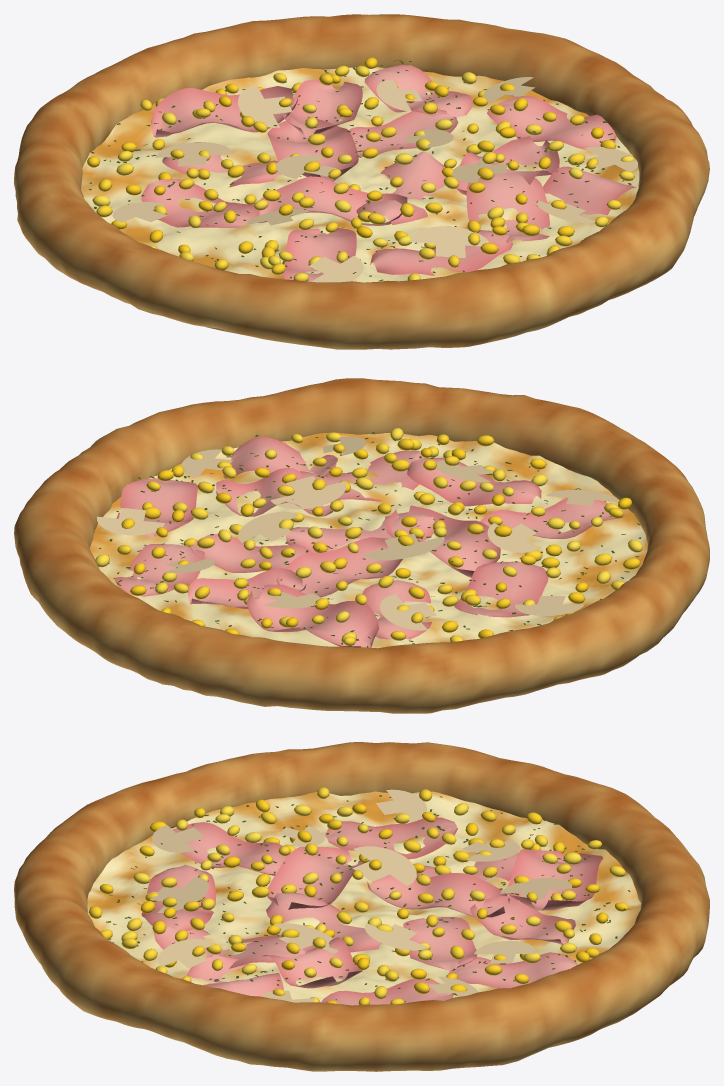
Rendered from pizza.glb.
3 views of the same model, one above another, from view 1: azimuth 30°, elevation 25°; view 2: azimuth 150°, elevation 25°; view 3: azimuth 270°, elevation 25° (orthographic).
Parts seen in each view (by area): view 1: Pizza_Borde, Pizza_Jamon, Pizza_Queso, Pizza_Choclo, Pizza_Champi, Pizza_Oregano; view 2: Pizza_Borde, Pizza_Jamon, Pizza_Queso, Pizza_Choclo, Pizza_Champi, Pizza_Oregano; view 3: Pizza_Borde, Pizza_Jamon, Pizza_Queso, Pizza_Choclo, Pizza_Champi, Pizza_Oregano.
Part boxes in pixels (x1,y1,x2,y2): Pizza_Borde: (14, 14, 709, 349); Pizza_Jamon: (141, 65, 636, 281); Pizza_Queso: (81, 67, 639, 282); Pizza_Choclo: (87, 57, 634, 281); Pizza_Champi: (112, 77, 637, 282); Pizza_Oregano: (87, 60, 631, 281); Pizza_Borde: (14, 378, 709, 713); Pizza_Jamon: (114, 436, 624, 647); Pizza_Queso: (90, 432, 647, 648); Pizza_Choclo: (95, 428, 642, 645); Pizza_Champi: (97, 436, 617, 630); Pizza_Oregano: (99, 432, 641, 647); Pizza_Borde: (14, 742, 709, 1071); Pizza_Jamon: (141, 817, 602, 1005); Pizza_Queso: (87, 791, 641, 1002); Pizza_Choclo: (88, 787, 628, 1004); Pizza_Champi: (150, 789, 571, 1002); Pizza_Oregano: (106, 795, 630, 1002).
Bounding box in the file's own units: 0.3334 × 0.0359 × 0.3358.
